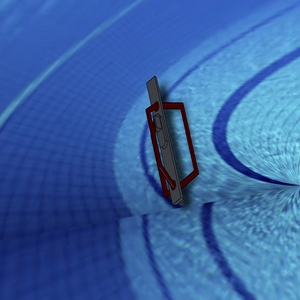submarine: (121, 68, 204, 209)
